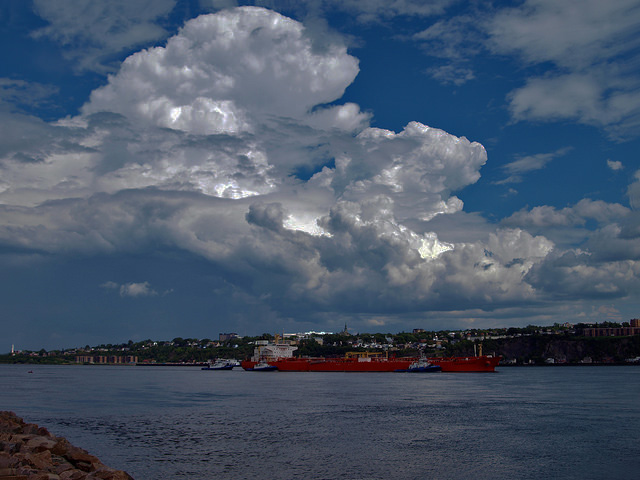tanker: (235, 335, 499, 375)
tug_boat: (389, 346, 446, 374), (200, 355, 238, 373), (250, 351, 278, 373)
